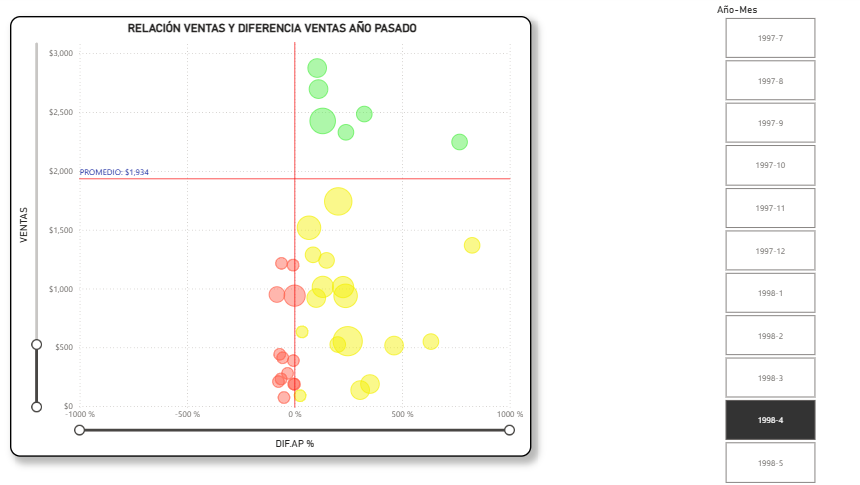

What the dashboard file says about the page in this screenshot:
{"tool":"powerbi","page":{"name":"DISPERSIÓN","canvas":[1280,720],"ordinal":0},"visuals":[{"type":"scatterChart","title":"RELACIÓN VENTAS Y DIFERENCIA VENTAS AÑO PASADO","fields":{"Category":["Products.ProductName"],"Y":["MEDIDAS.VENTAS"],"X":["MEDIDAS.DIF.AP %"],"Size":["MEDIDAS.CANTIDAD ORDENES"]},"box":[28.6,30.4,763.4,645.4],"z":0},{"type":"slicer","fields":{"Values":["CALENDARIO.Año-Mes"]},"box":[1051.2,8.9,180.6,711.5],"z":1000}]}

Visuals, with their boxes in screenshot pixels (x1, y1, x2, y2), scaled from the page's 1280x720 canvas onto the 860x485 screenshot:
"RELACIÓN VENTAS Y DIFERENCIA VENTAS AÑO PASADO" scatterChart: {"left": 19, "top": 20, "right": 532, "bottom": 455}
slicer - CALENDARIO.Año-Mes: {"left": 706, "top": 6, "right": 828, "bottom": 484}
